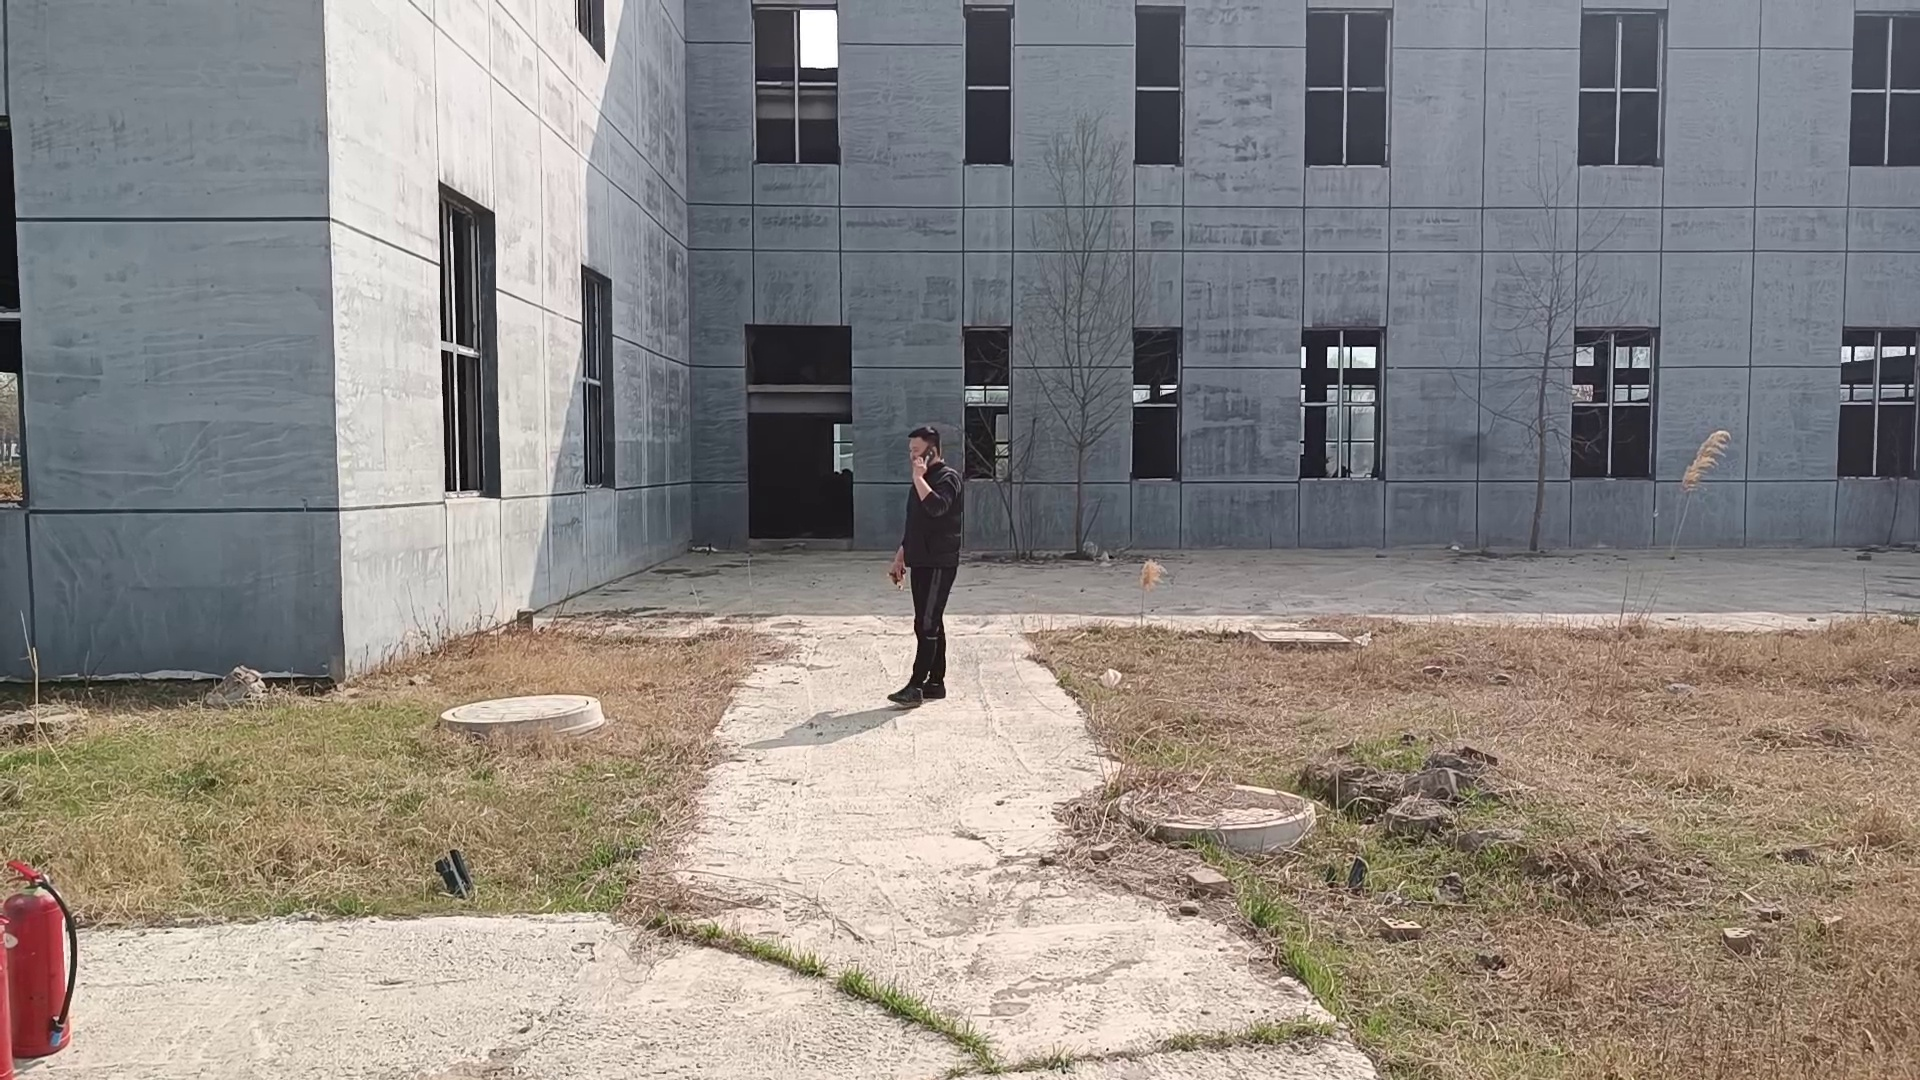phone: (901, 423, 948, 473)
